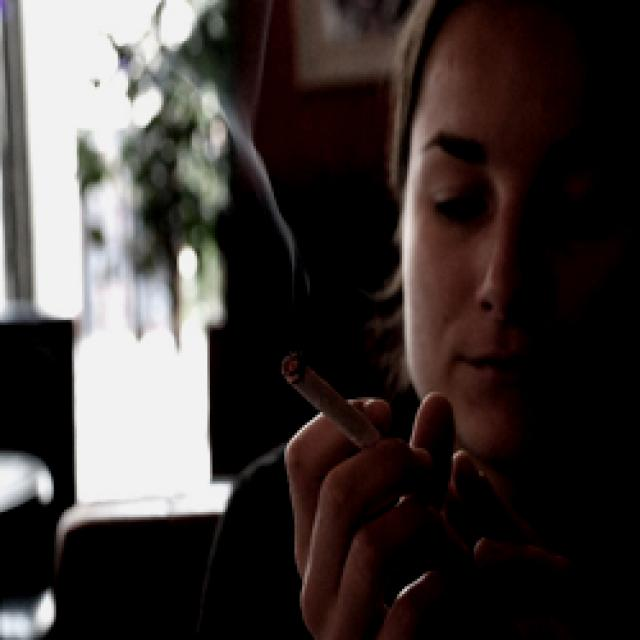Smooking: (266, 338, 381, 461)
